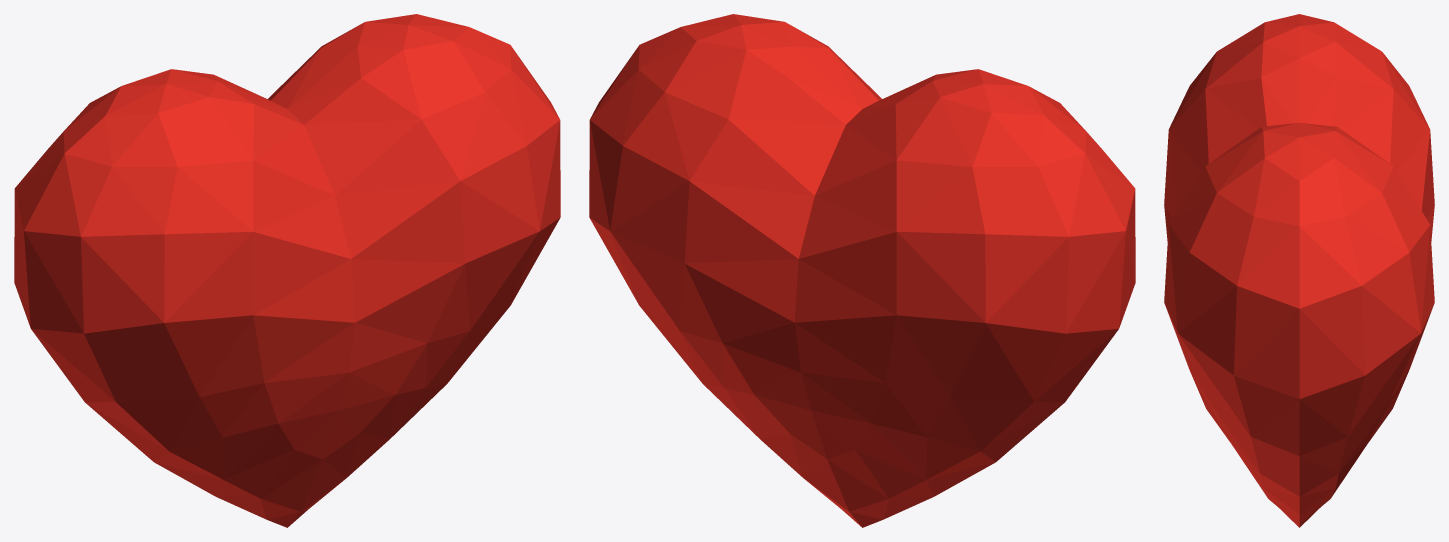
Rendered from heart.fbx.
3 renders of one model, left to right at view 1: azimuth 30°, elevation 25°; view 2: azimuth 150°, elevation 25°; view 3: azimuth 270°, elevation 25°, orthographic. The views are drawn at different scales.
Visible parts, largest first — view 1: Sphere; view 2: Sphere; view 3: Sphere.
Boxes of the visible parts, box(x1,y1,x2,y2) form: Sphere: box(14, 14, 560, 527); Sphere: box(589, 14, 1135, 527); Sphere: box(1164, 14, 1434, 527).
Size of the model in its own units: 189 by 162 by 89.18.
